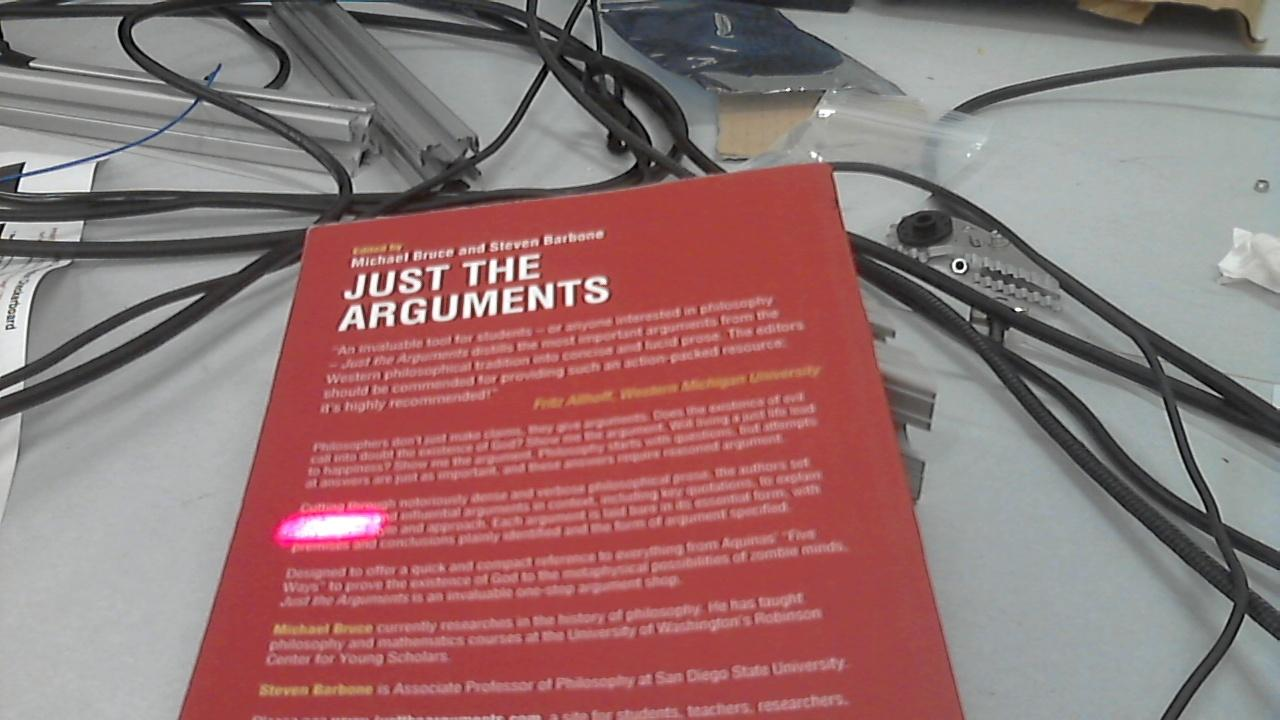Object book - Material paper - Color red - Pdfname QP9o9Hihi4G7: (227, 481, 413, 561)
